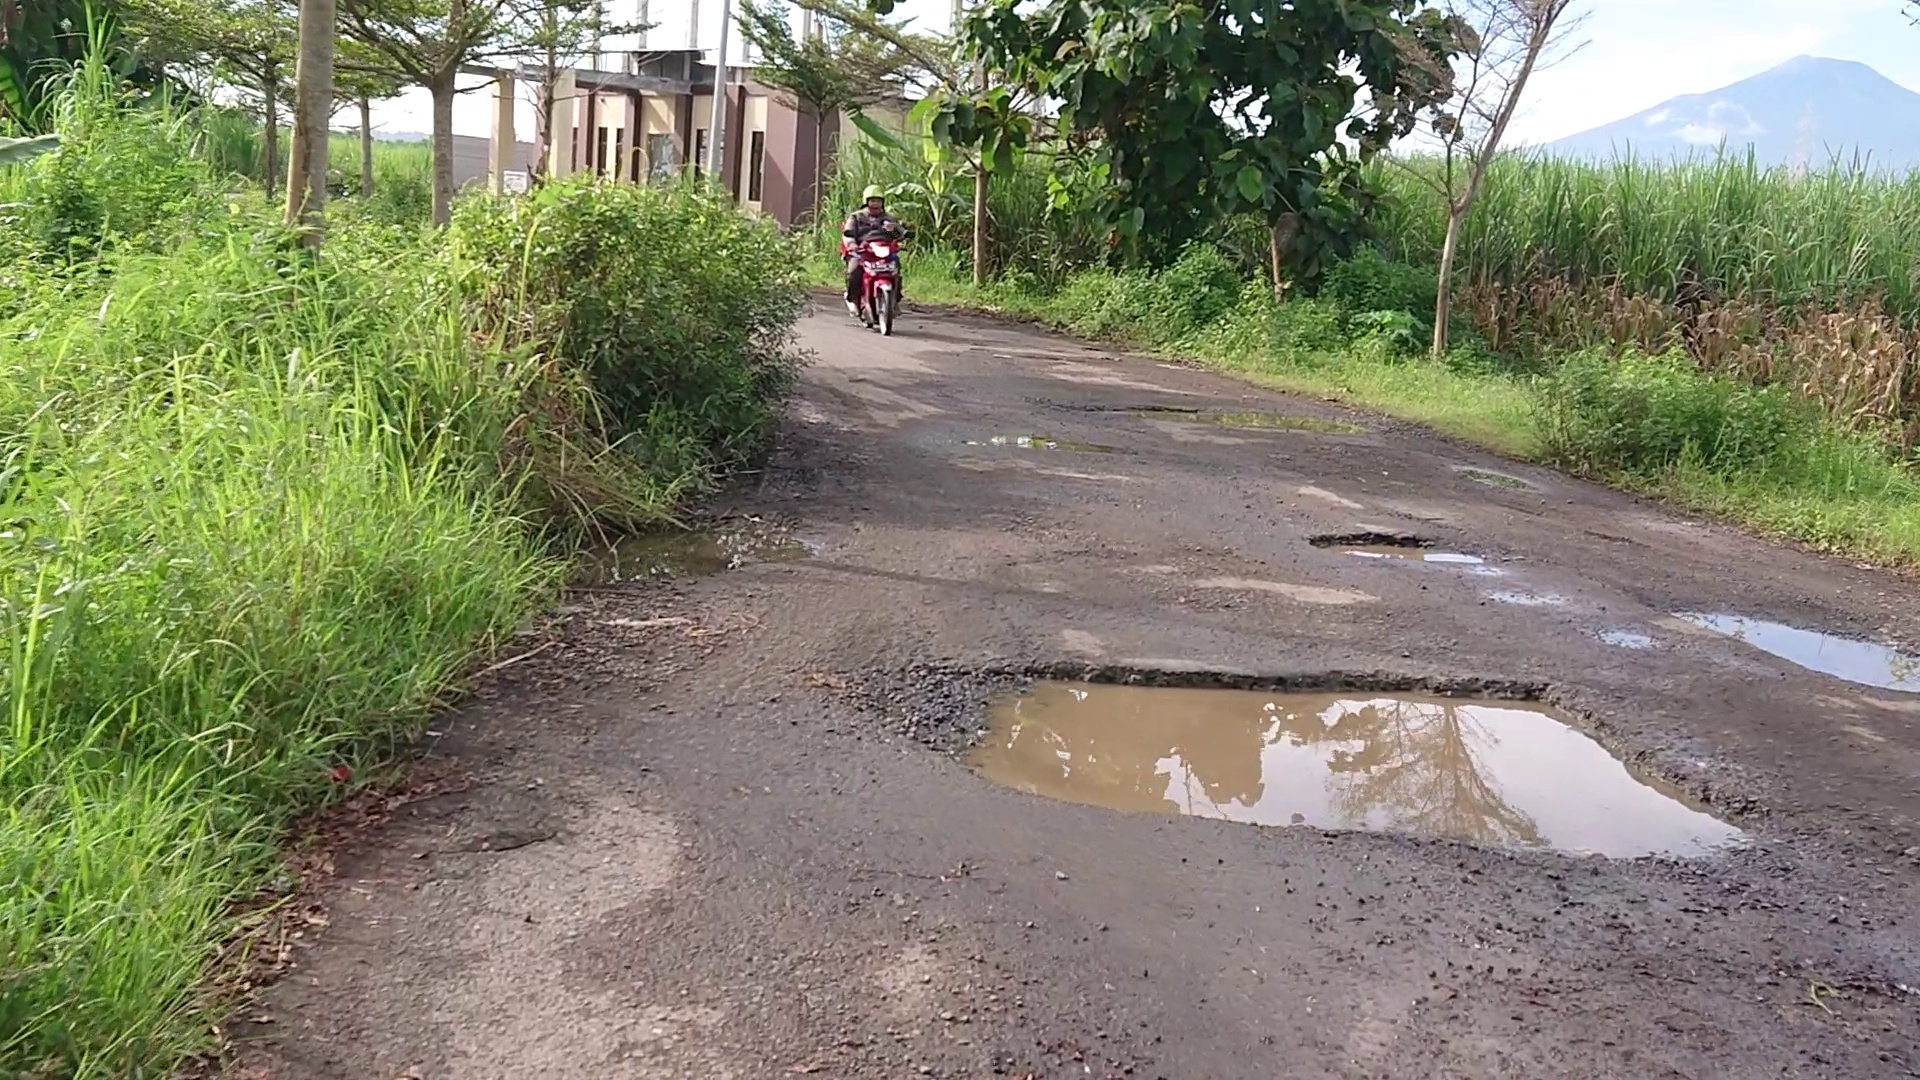Berlubang: (975, 675, 1720, 858), (1669, 592, 1917, 688), (1317, 524, 1497, 575), (1147, 402, 1353, 438)
